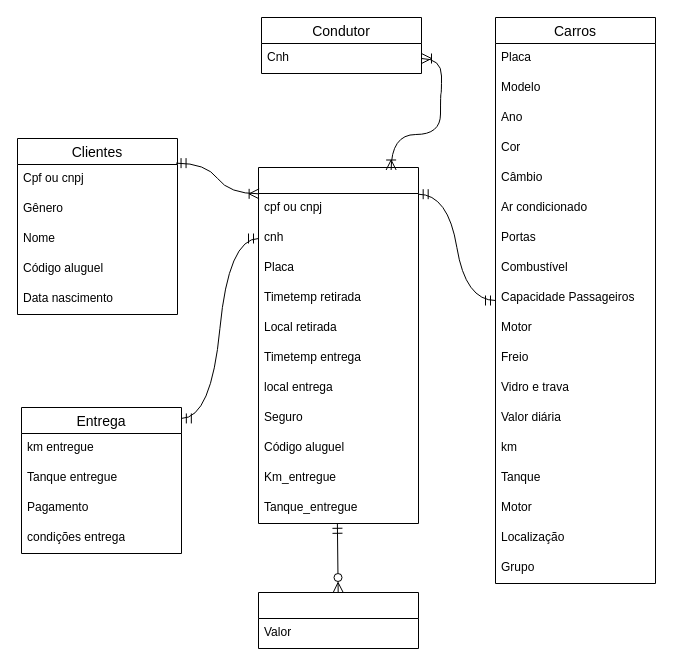
Image size: 673x669. Some labels were removed from this diagram. The box of each missing label's shape, as (x1, y1, x2, y2) in pixels:
Aluguéis: (258, 166, 418, 524)
Multa: (258, 592, 418, 648)
